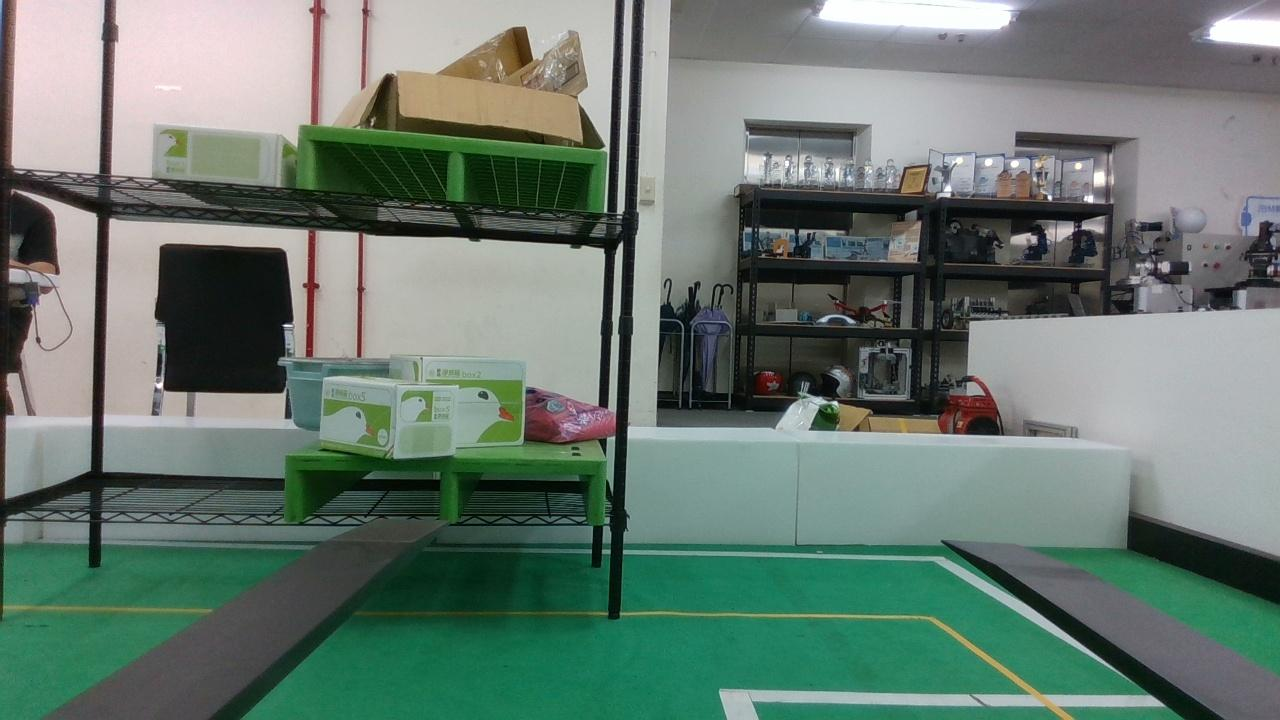Pallet: (296, 121, 609, 213), (284, 450, 609, 520)
